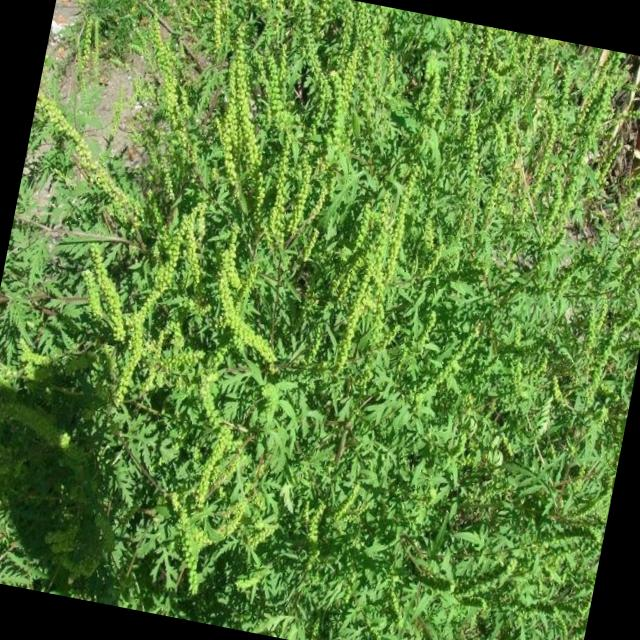ambrosia: (134, 20, 385, 435), (457, 33, 640, 390), (0, 78, 181, 384), (121, 407, 348, 638)
